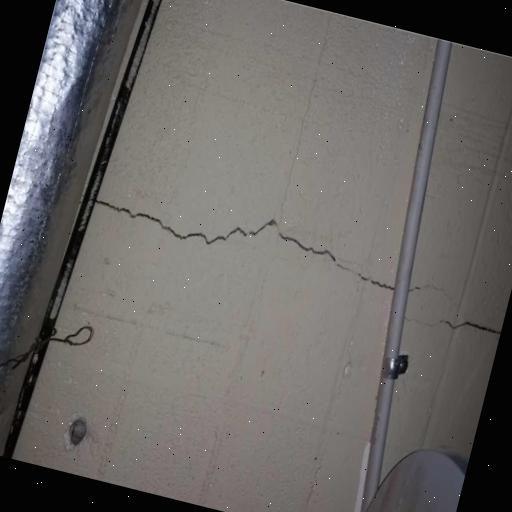spalling: (102, 190, 394, 299), (430, 311, 496, 357)
